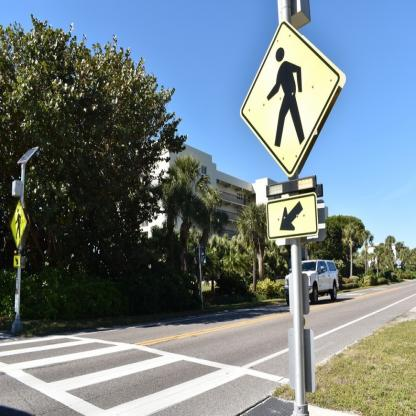Crosswalk: (0, 332, 312, 414)
